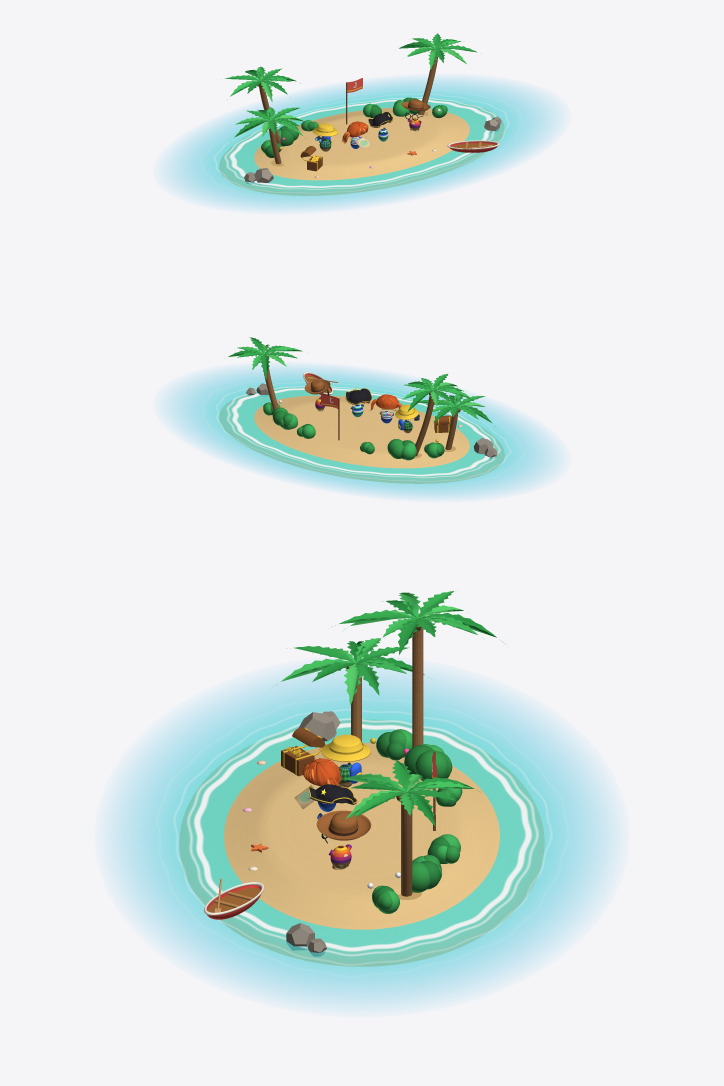
The model's file is island.glb.
The picture shows the model from 3 angles, top to bottom: view 1: azimuth 30°, elevation 25°; view 2: azimuth 150°, elevation 25°; view 3: azimuth 270°, elevation 25°; orthographic projection. The views are drawn at different scales.
Parts seen in each view (by area): view 1: Shallows, Island, Boat; view 2: Shallows, Island; view 3: Shallows, Island, Head (×4), Boat, Palm1, Palm2.
Boxes of the visible parts, <box> form: Shallows: <box>166,78,557,209</box>; Island: <box>219,82,504,195</box>; Boat: <box>447,140,499,152</box>; Shallows: <box>166,366,557,497</box>; Island: <box>219,383,504,483</box>; Shallows: <box>111,667,612,1005</box>; Island: <box>179,711,544,966</box>; Head (×4): <box>302,734,371,843</box>; Boat: <box>204,878,264,919</box>; Palm1: <box>412,619,425,747</box>; Palm2: <box>396,793,412,896</box>.
Bounding box in the file's own units: 40 × 6.2 × 24.96.
Materials: 110 (27 with a texture image).
